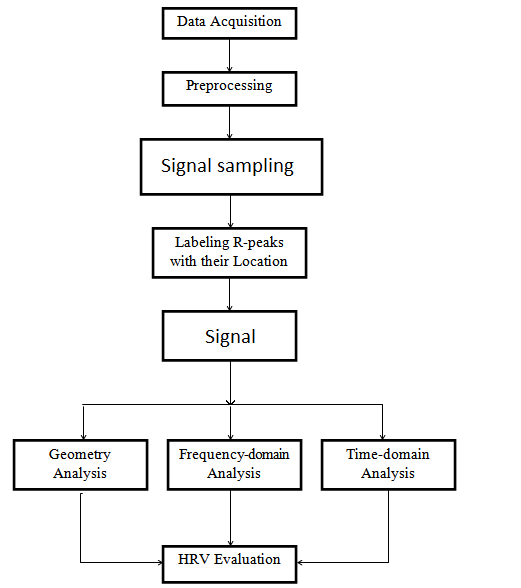arrow: (295, 486, 398, 567), (77, 489, 166, 568), (230, 401, 386, 441), (76, 402, 231, 441), (224, 486, 237, 547), (223, 355, 237, 407), (226, 401, 239, 444), (225, 104, 236, 140), (225, 193, 236, 228), (224, 37, 234, 73), (224, 277, 234, 311)
process: (136, 136, 327, 200), (149, 224, 312, 281), (8, 435, 153, 494), (158, 306, 302, 364), (317, 436, 460, 494), (164, 436, 304, 494), (158, 542, 299, 586), (158, 69, 301, 110), (158, 3, 302, 43)
text: (168, 234, 288, 269), (174, 447, 292, 482), (158, 154, 294, 180), (341, 446, 432, 482), (47, 446, 116, 482), (175, 12, 282, 31), (175, 552, 282, 569), (183, 77, 279, 95), (203, 325, 260, 349)
